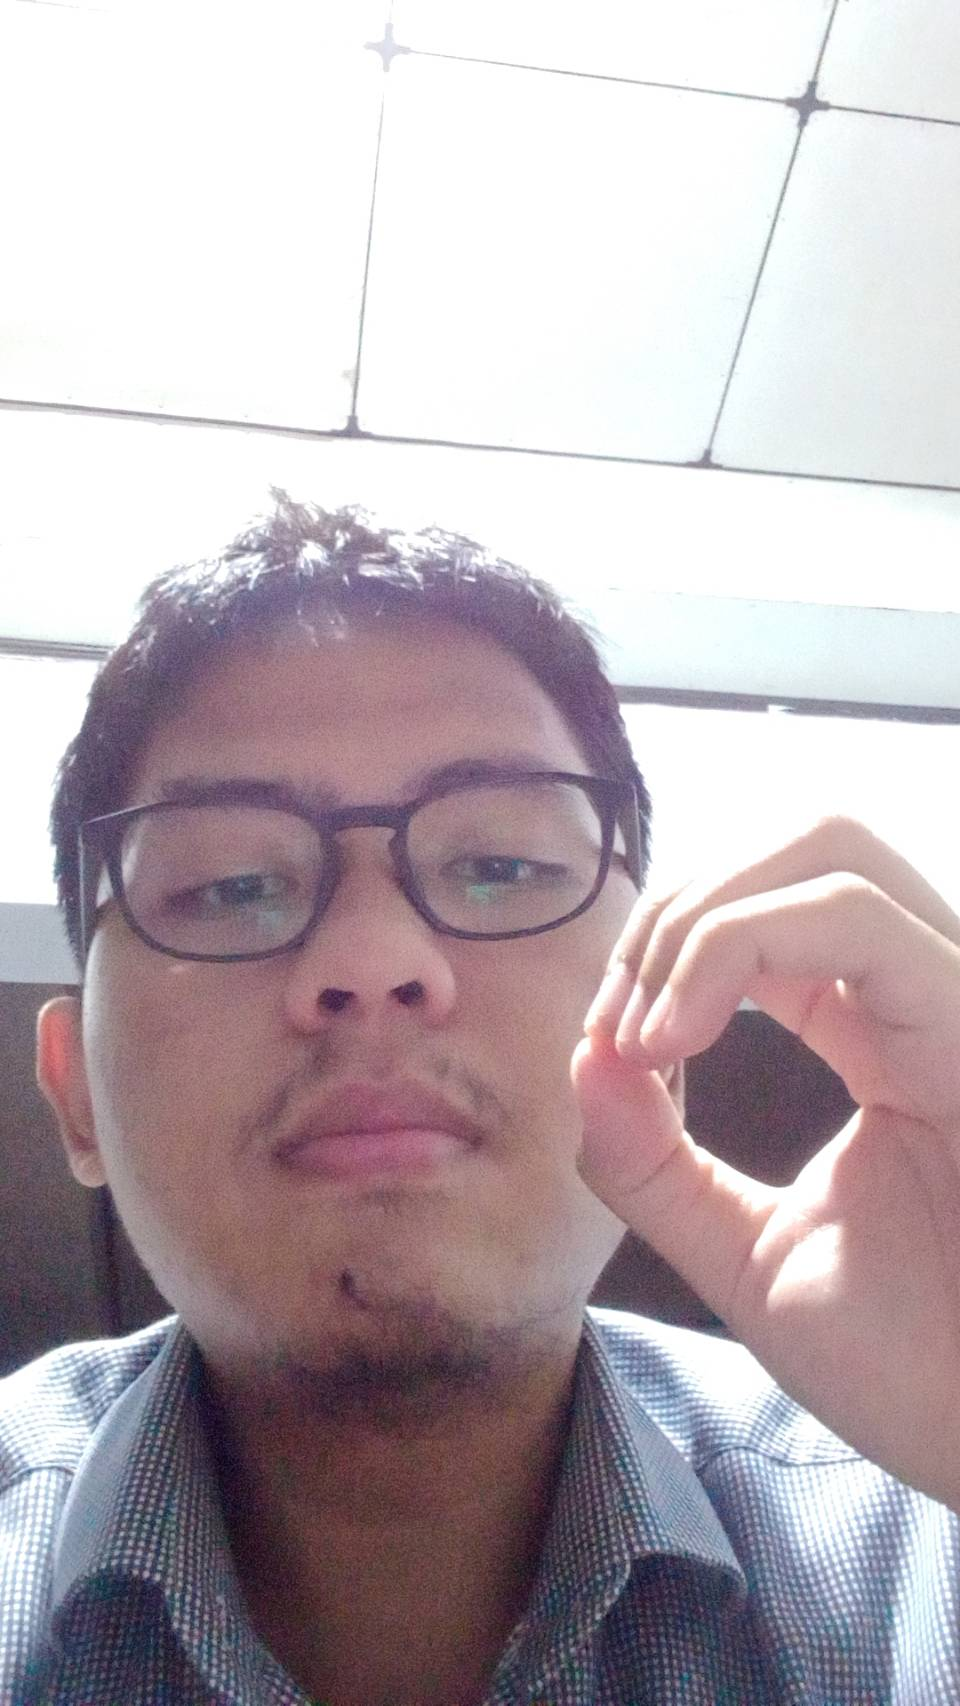O: (560, 799, 960, 1514)
